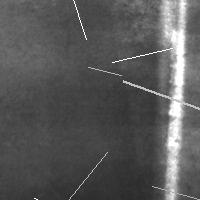scratches: (156, 1, 187, 199), (118, 76, 200, 119), (63, 147, 112, 200), (107, 43, 177, 67), (65, 0, 91, 44), (147, 181, 200, 200), (83, 62, 126, 80), (29, 193, 101, 200)
